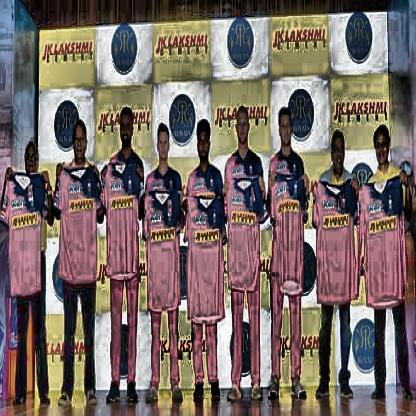JK lakshmi cement: (333, 102, 388, 125), (274, 29, 326, 52), (157, 34, 208, 57), (42, 42, 93, 63)
Rajasthan Royals: (347, 10, 374, 63), (169, 93, 195, 147), (111, 24, 138, 75), (227, 18, 253, 67), (289, 90, 314, 139)
